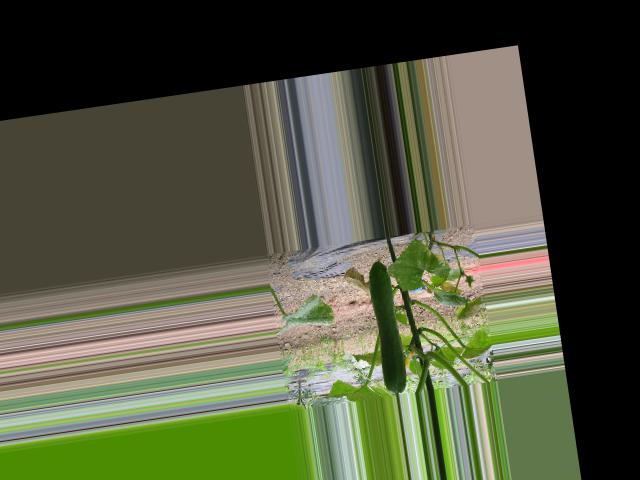cucumber: (364, 255, 409, 394)
